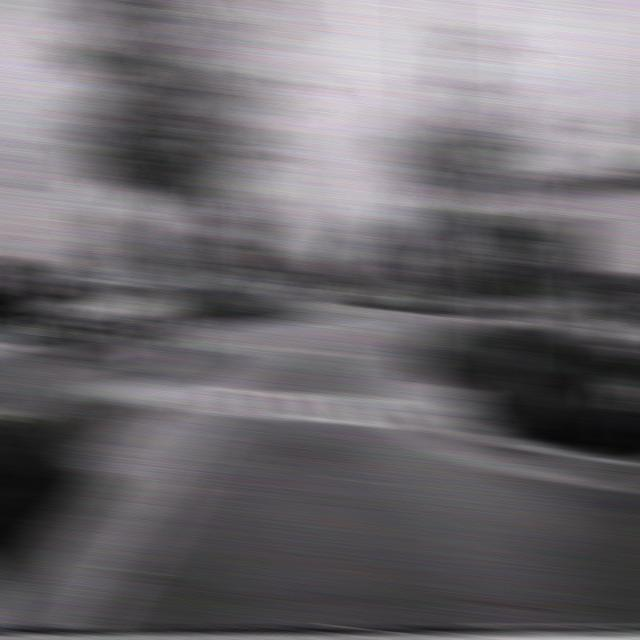pedestrianCrossing: (468, 148, 536, 238), (372, 242, 409, 268)
yield: (232, 193, 274, 229)
